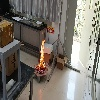fire: (36, 31, 46, 70)
